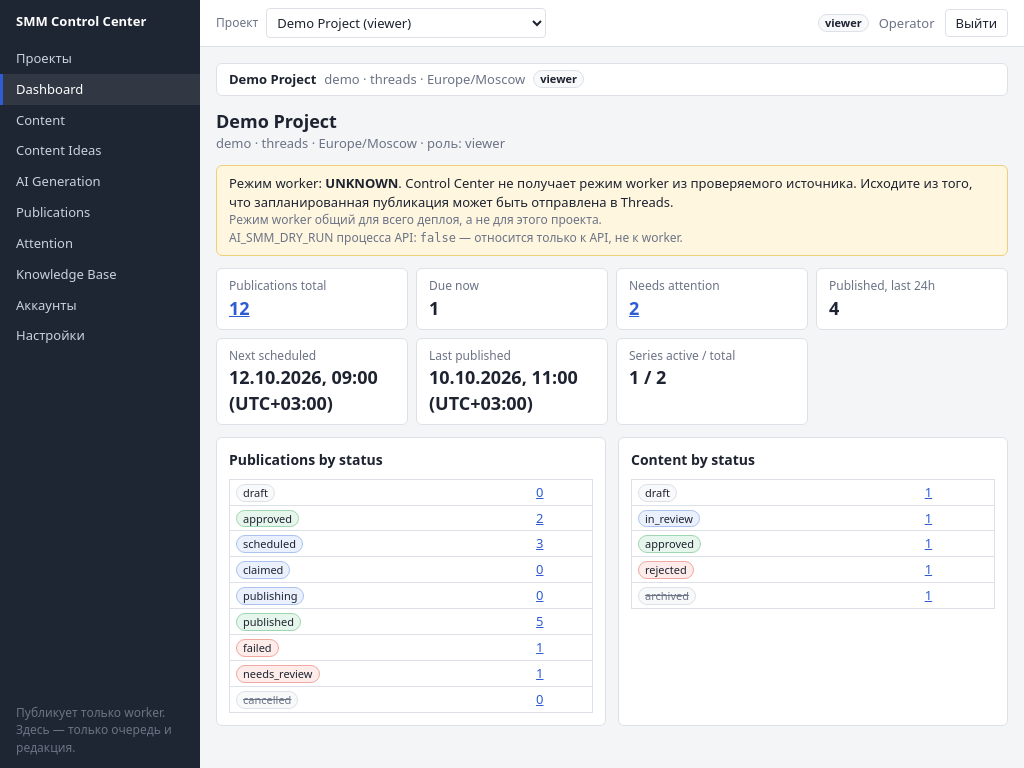
generation jobs page › is project-scoped in navigation and lists real jobs
The width and height of the screenshot is (1024, 768).
Click the link "AI Generation".
click(58, 181)  # box left=16, top=172, right=101, bottom=190
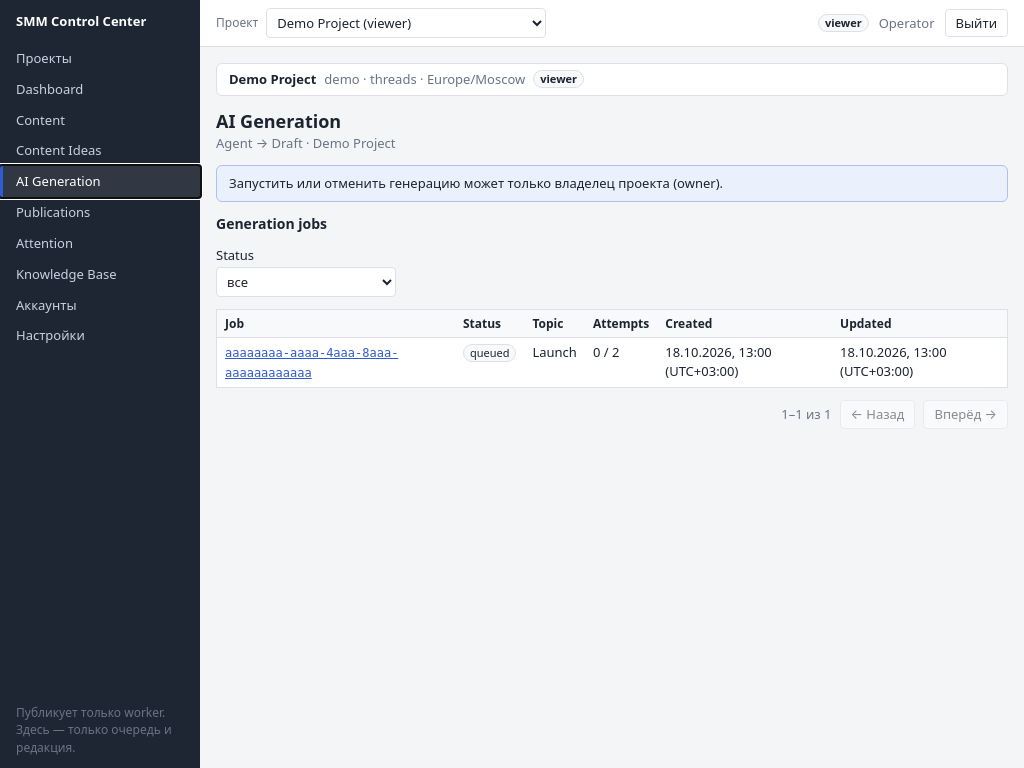
Expected: the text "Demo Project" is shown, left=229, top=70, right=316, bottom=89
Expected: the heading "AI Generation" is shown, left=216, top=109, right=341, bottom=133
